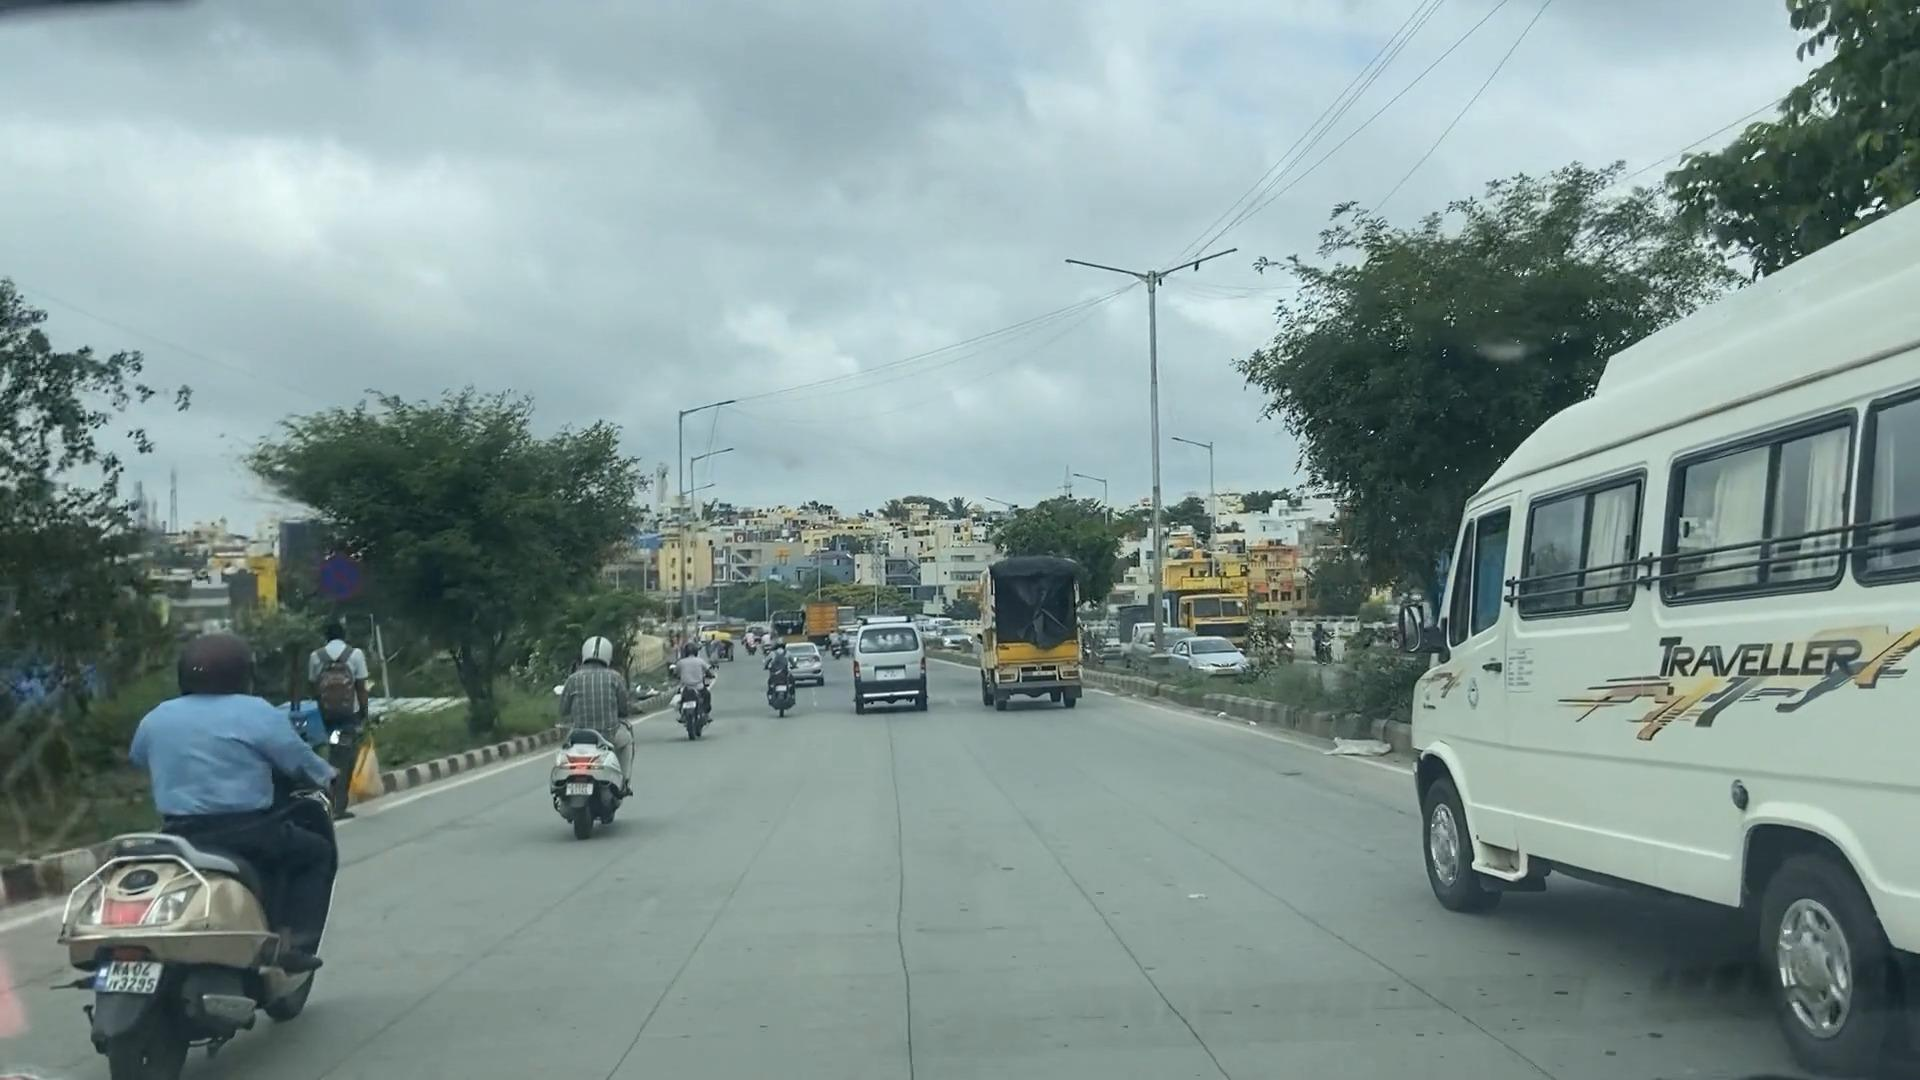HMV: (1395, 371, 1920, 1033), (968, 538, 1092, 728)
LMV: (108, 622, 351, 1067), (543, 600, 629, 851), (837, 622, 931, 732), (670, 638, 732, 746)
